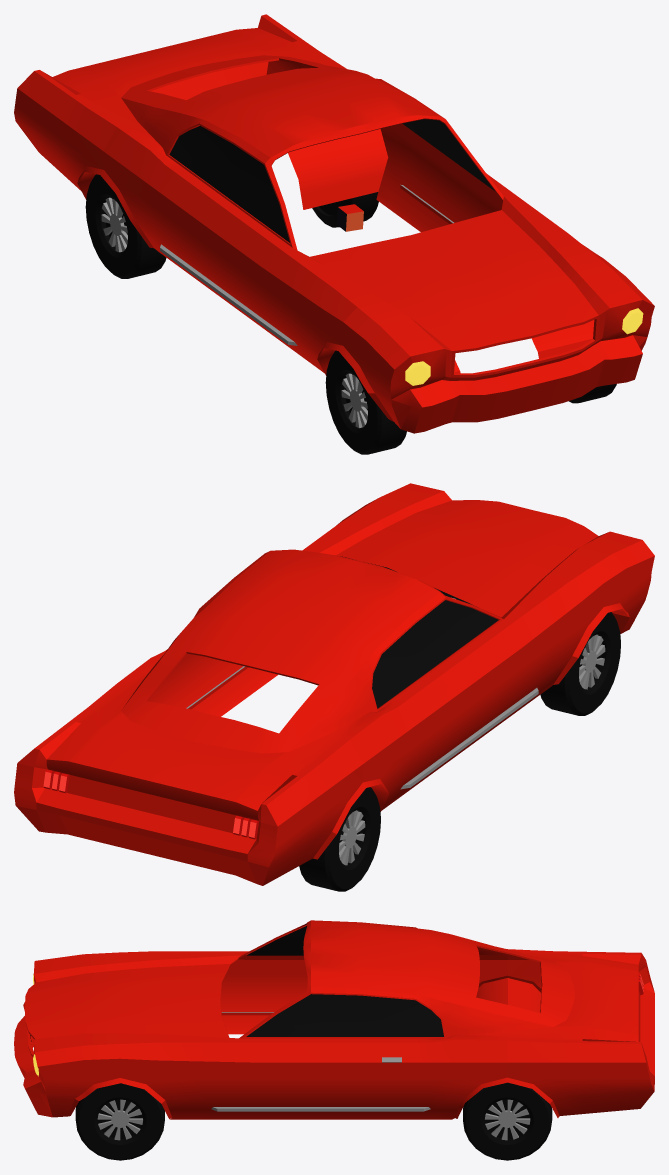
File: Mustang.gltf
The picture shows the model from 3 angles, top to bottom: view 1: azimuth 30°, elevation 25°; view 2: azimuth 150°, elevation 25°; view 3: azimuth 270°, elevation 25°; orthographic projection. The views are drawn at different scales.
Visible parts, largest first — view 1: Circle, Circle.002, Circle.001; view 2: Circle, Circle.002, Circle.001, Circle.003; view 3: Circle, Circle.002, Circle.001.
Part boxes in pixels (box(x1,y1,x2,y2)): Circle: box(14, 14, 654, 433); Circle.002: box(85, 174, 378, 278); Circle.001: box(325, 350, 616, 454); Circle: box(14, 483, 654, 885); Circle.002: box(299, 787, 380, 891); Circle.001: box(540, 612, 620, 715); Circle.003: box(43, 769, 258, 839); Circle: box(14, 920, 654, 1119); Circle.002: box(463, 1082, 552, 1160); Circle.001: box(75, 1083, 164, 1160).
Size of the model in its own units: 1.32 by 0.9783 by 3.37.
